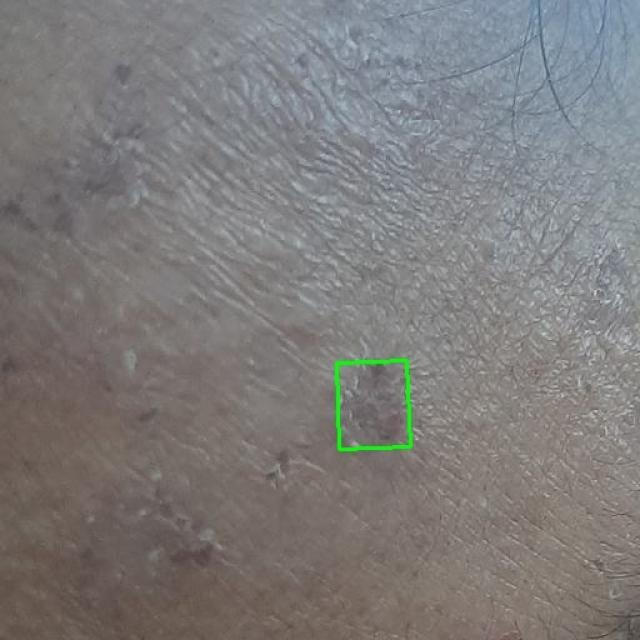Tinea Corporis: (337, 360, 410, 450)
